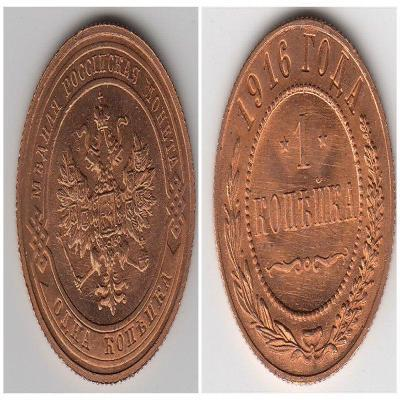numismatics: (214, 19, 395, 381), (16, 23, 195, 382)
